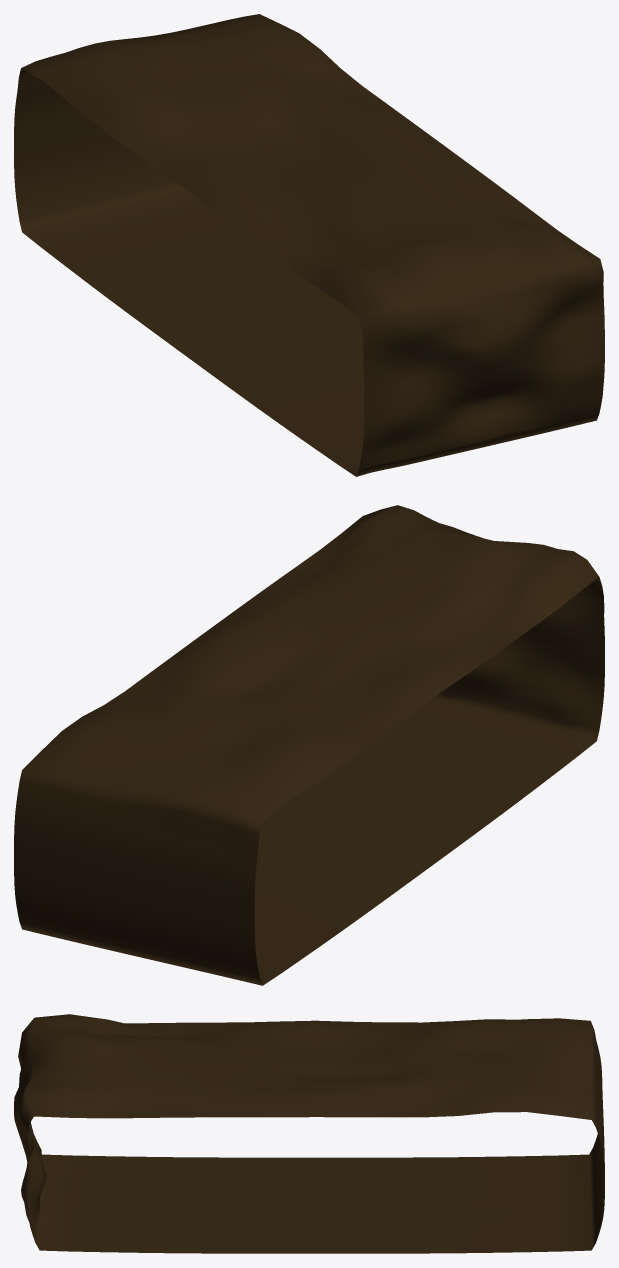
The model's file is StageBlokcA.fbx.
The picture shows the model from 3 angles, top to bottom: view 1: azimuth 30°, elevation 25°; view 2: azimuth 150°, elevation 25°; view 3: azimuth 270°, elevation 25°; orthographic projection. The views are drawn at different scales.
Parts seen in each view (by area): view 1: Cube; view 2: Cube; view 3: Cube.
Boxes of the visible parts, x1,y1,x2,y2 form: Cube: (14,14,604,476); Cube: (14,505,604,985); Cube: (14,1014,604,1253).
Size of the model in its own units: 303 by 236 by 792.
